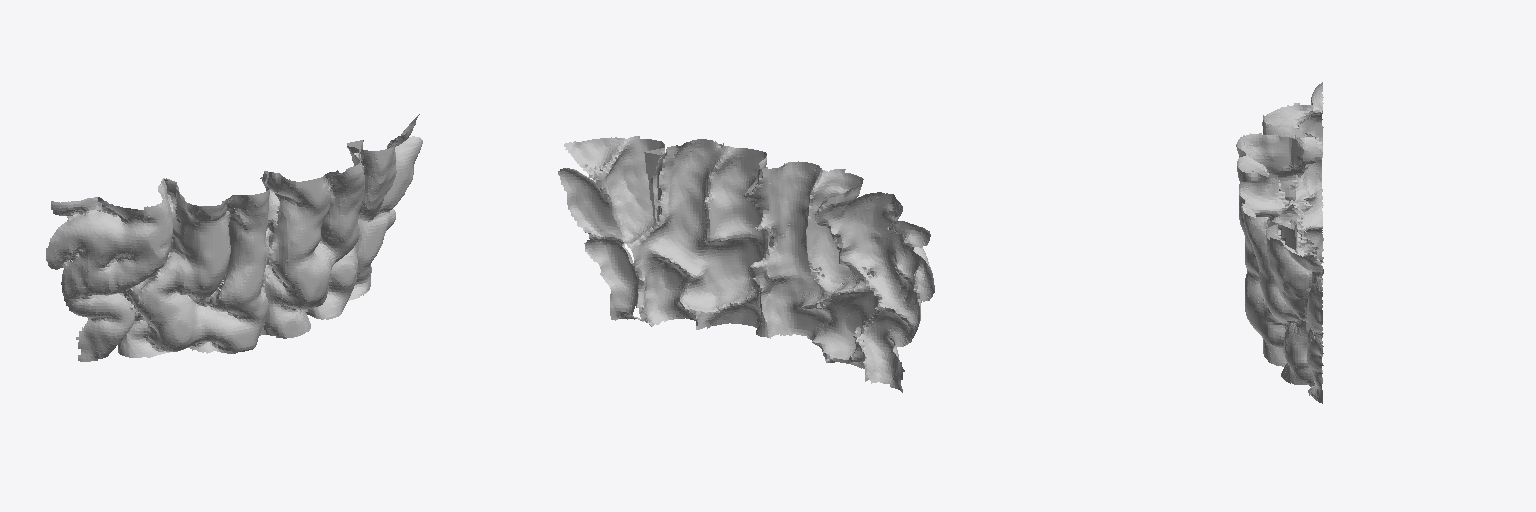
File: cortex_0_1.obj
3 renders of one model, left to right at view 1: azimuth 30°, elevation 25°; view 2: azimuth 150°, elevation 25°; view 3: azimuth 270°, elevation 25°, orthographic.
Parts seen in each view (by area): view 1: Cortex_0_1_Mehrdad_SagT1_Cortex_v1_No_Smooth_OBJ.000_Mehrdad_Sa; view 2: Cortex_0_1_Mehrdad_SagT1_Cortex_v1_No_Smooth_OBJ.000_Mehrdad_Sa; view 3: Cortex_0_1_Mehrdad_SagT1_Cortex_v1_No_Smooth_OBJ.000_Mehrdad_Sa.
Part boxes in pixels (left/top/right/bottom): Cortex_0_1_Mehrdad_SagT1_Cortex_v1_No_Smooth_OBJ.000_Mehrdad_Sa: left=46, top=114, right=422, bottom=361; Cortex_0_1_Mehrdad_SagT1_Cortex_v1_No_Smooth_OBJ.000_Mehrdad_Sa: left=558, top=136, right=934, bottom=392; Cortex_0_1_Mehrdad_SagT1_Cortex_v1_No_Smooth_OBJ.000_Mehrdad_Sa: left=1236, top=82, right=1323, bottom=403.
Size of the model in its own units: 92.72 by 39.59 by 18.66.